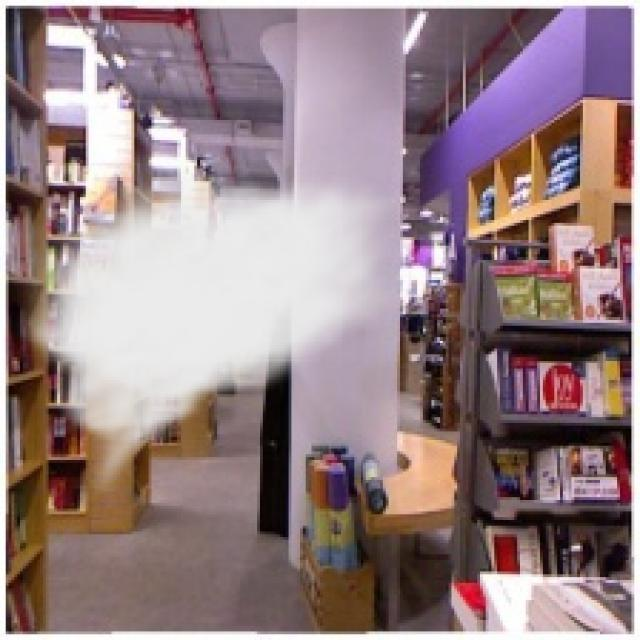Smoke: (11, 160, 412, 503)
